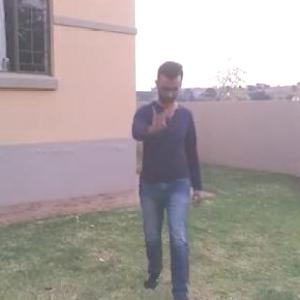takeoff-hand: (145, 100, 177, 138)
